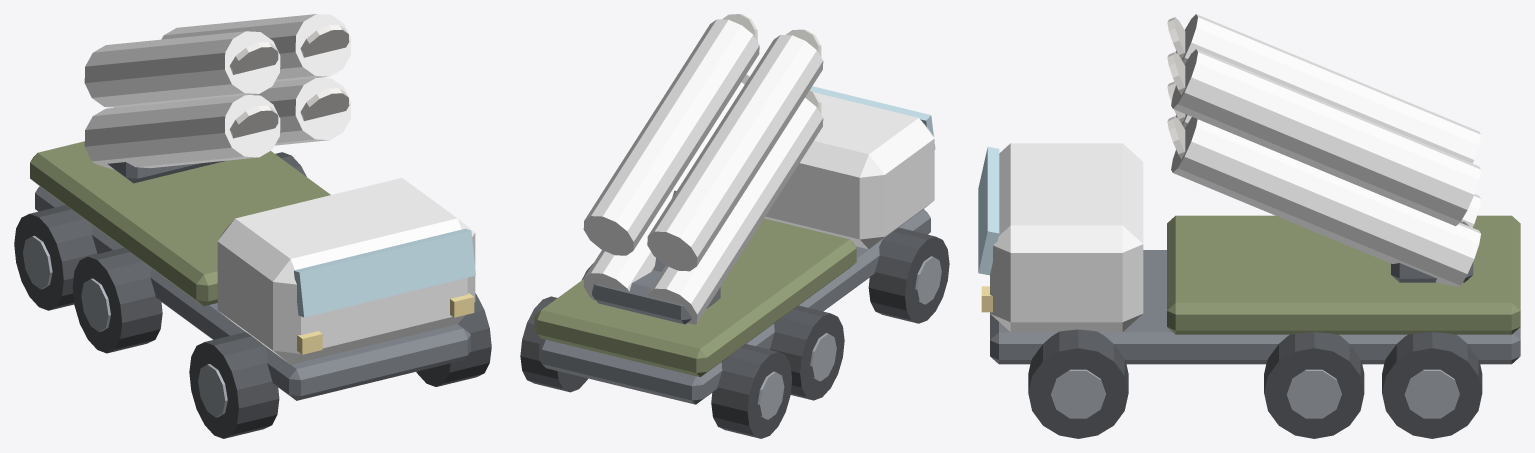
The model's file is missiletruck.glb.
3 renders of one model, left to right at view 1: azimuth 30°, elevation 25°; view 2: azimuth 150°, elevation 25°; view 3: azimuth 270°, elevation 25°, orthographic. The views are drawn at different scales.
Parts seen in each view (by area): view 1: main, turret; view 2: main, turret; view 3: main, turret.
Part boxes in pixels (x1,y1,x2,y2): main: (14, 141, 491, 438); turret: (84, 14, 351, 183); main: (520, 86, 949, 438); turret: (583, 14, 823, 324); main: (978, 143, 1520, 438); turret: (1167, 14, 1480, 286).
Bounding box in the file's own units: 0.51 × 0.64 × 0.9197.
